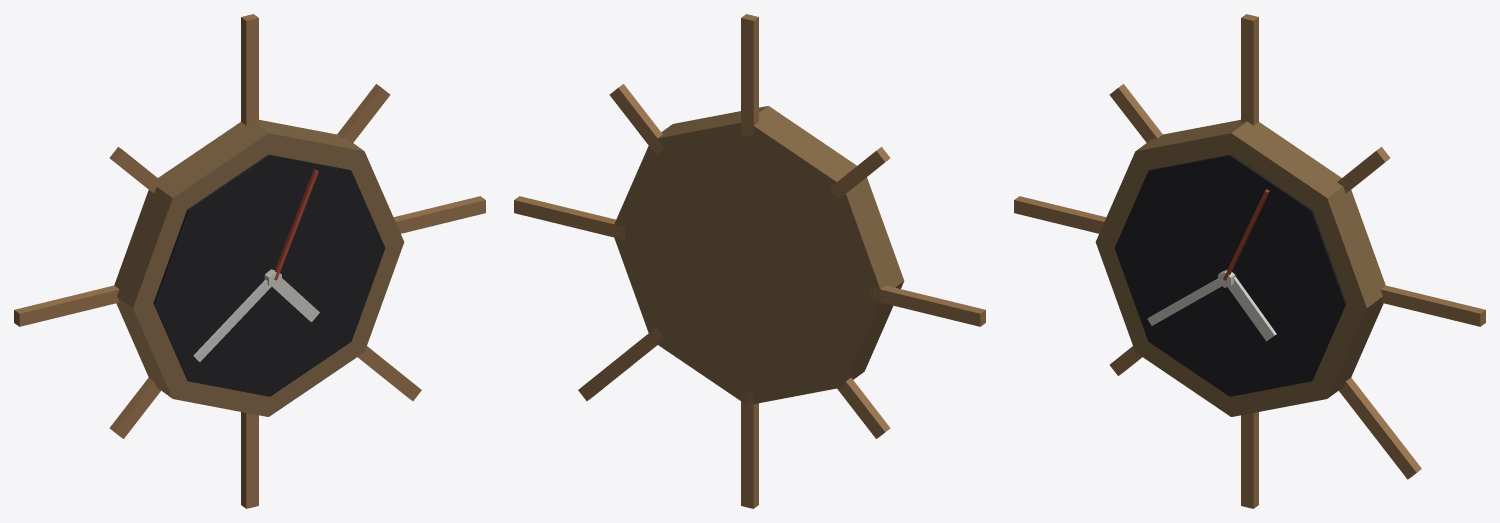
The model's file is wall-clock-23.glb.
The picture shows the model from 3 angles, left to right: view 1: azimuth 30°, elevation 25°; view 2: azimuth 150°, elevation 25°; view 3: azimuth 330°, elevation 25°; orthographic projection.
Parts seen in each view (by area): view 1: wall_clock_23; view 2: wall_clock_23; view 3: wall_clock_23.
Boxes of the visible parts, box(x1,y1,x2,y2) form: wall_clock_23: box(14, 14, 485, 508); wall_clock_23: box(514, 14, 985, 508); wall_clock_23: box(1014, 14, 1485, 508).
Bounding box in the file's own units: 0.7462 × 0.7462 × 0.0783.
